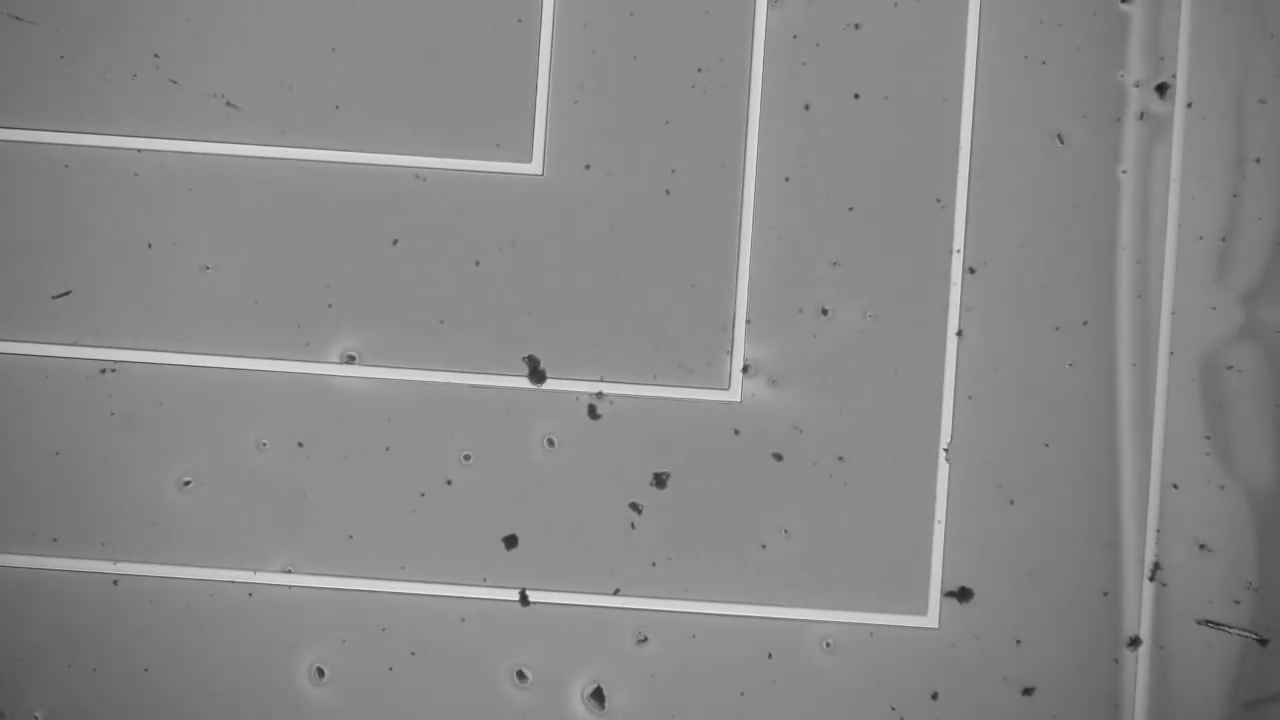edge_bite: (925, 432, 965, 476)
stains_enbedded: (506, 346, 555, 404), (723, 352, 752, 382), (508, 586, 540, 612)
